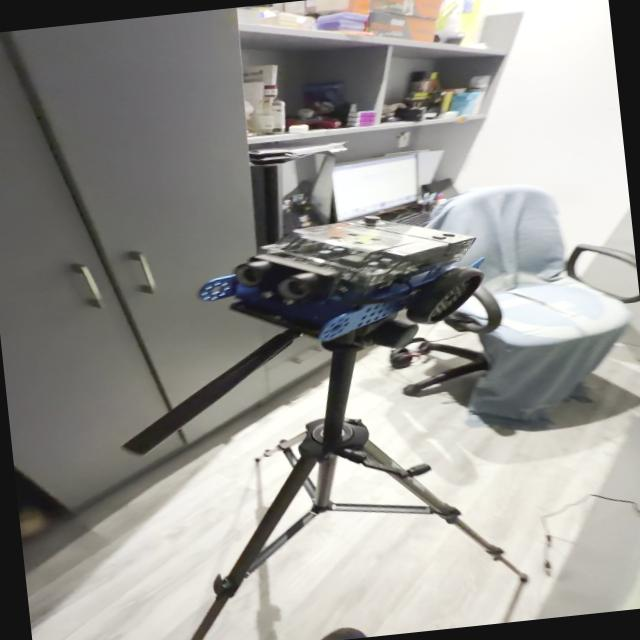mbot-detection: (184, 199, 501, 364)
